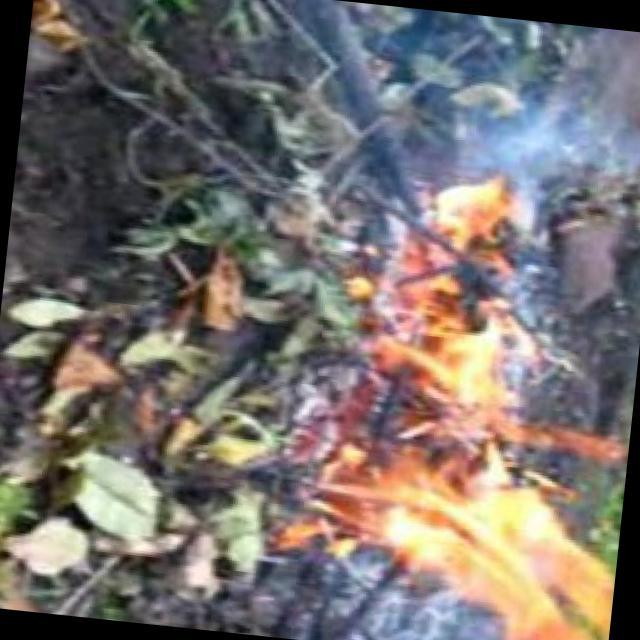Fire: (324, 416, 630, 640), (369, 170, 527, 434)
